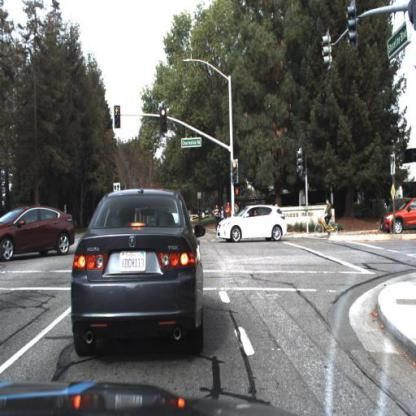biker: (314, 197, 341, 239)
car: (71, 187, 206, 357), (1, 208, 77, 259), (215, 203, 290, 246), (379, 199, 416, 235)
pedestrian: (229, 200, 240, 217), (220, 205, 226, 227), (226, 203, 233, 217)
trafficLight-Red: (160, 107, 167, 134), (232, 158, 239, 183)
trafficLight-RedLeft: (114, 103, 122, 128)
